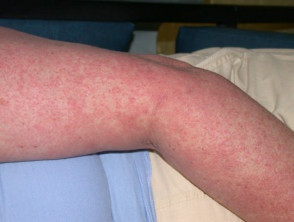SJS-TEN: (0, 13, 294, 221)
